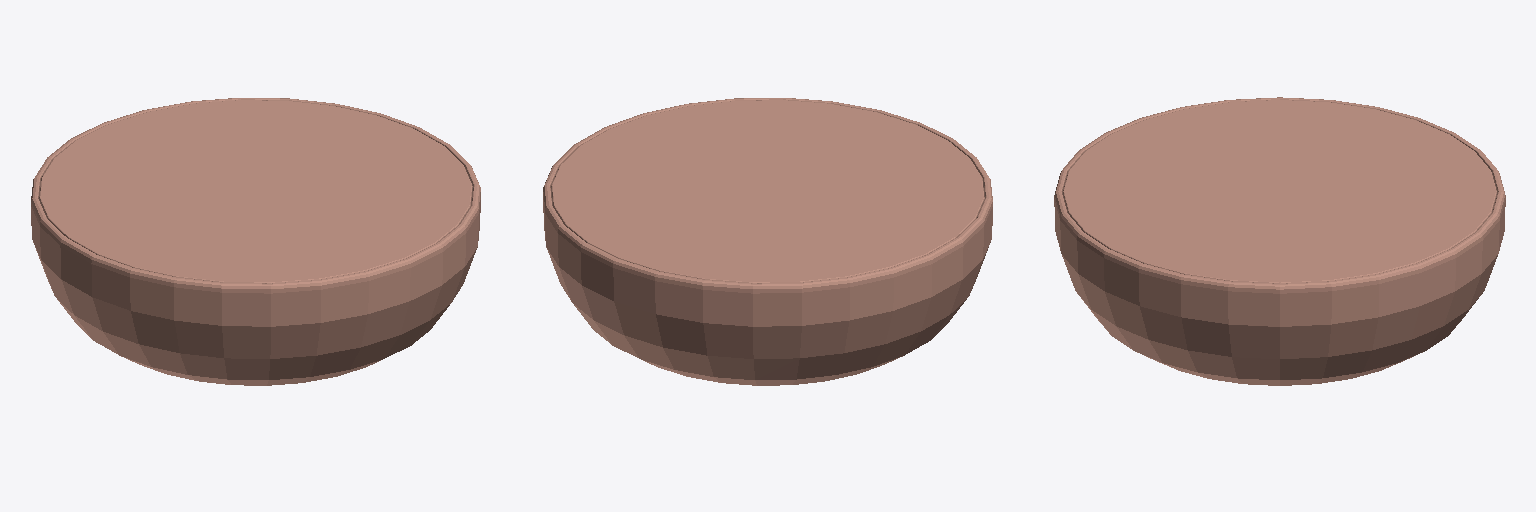
The model's file is 0ban.obj.
3 views of the same model, side by side, from view 1: azimuth 30°, elevation 25°; view 2: azimuth 150°, elevation 25°; view 3: azimuth 270°, elevation 25° (orthographic).
Parts seen in each view (by area): view 1: Object001_Mesh.001; view 2: Object001_Mesh.001; view 3: Object001_Mesh.001.
Boxes of the visible parts, x1=… form: Object001_Mesh.001: x1=31, y1=98, x2=480, y2=385; Object001_Mesh.001: x1=543, y1=98, x2=992, y2=385; Object001_Mesh.001: x1=1054, y1=97, x2=1505, y2=385.
Bounding box in the file's own units: 1.2 × 0.379 × 1.2.